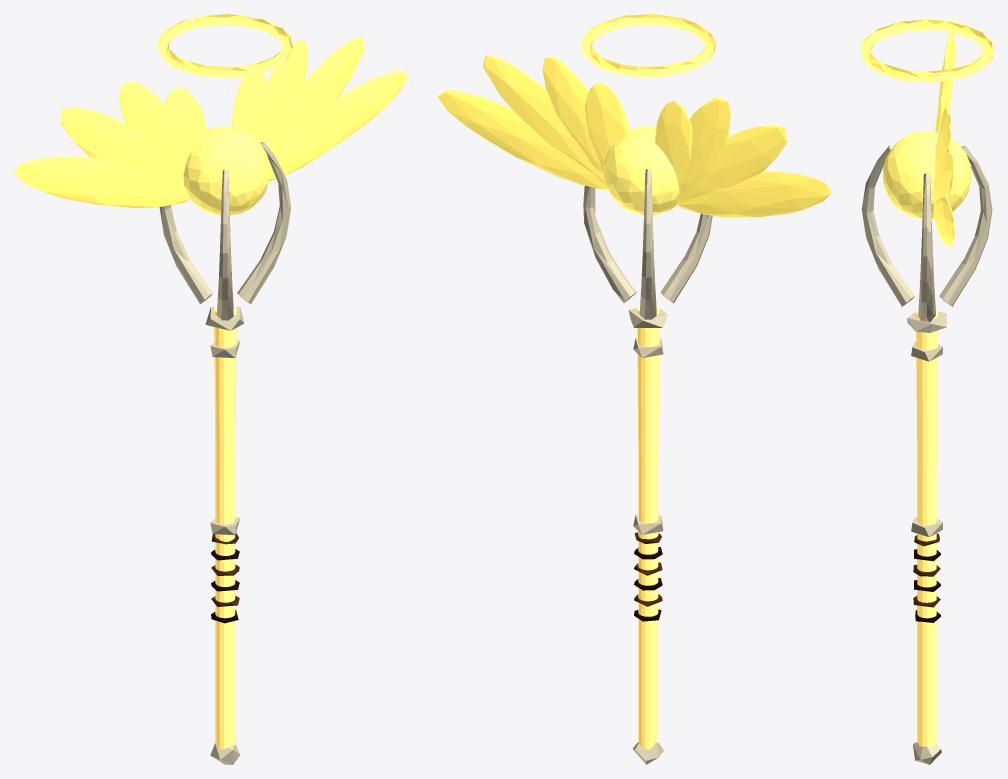
Rendered from staff_7.glb.
The picture shows the model from 3 angles, left to right: view 1: azimuth 30°, elevation 25°; view 2: azimuth 150°, elevation 25°; view 3: azimuth 270°, elevation 25°; orthographic projection.
Visible parts, largest first — view 1: part_01, part_13, part_12, part_17, part_14, part_18, part_21, part_15, part_19, part_22, part_23, part_24 (+2 smaller); view 2: part_01, part_17, part_13, part_12, part_18, part_14, part_21, part_19, part_15, part_20, part_16, part_22 (+2 smaller); view 3: part_01, part_12, part_21, part_24, part_23, part_22, part_17, part_18, part_09, part_19, part_08, part_11 (+3 smaller).
Part boxes in pixels (<box>): part_01: <box>214,306,236,749</box>; part_13: <box>14,156,189,207</box>; part_12: <box>183,126,270,215</box>; part_17: <box>269,70,408,181</box>; part_14: <box>60,107,184,189</box>; part_18: <box>267,36,364,162</box>; part_21: <box>157,14,292,77</box>; part_15: <box>119,81,187,193</box>; part_19: <box>255,40,307,145</box>; part_22: <box>237,142,290,304</box>; part_23: <box>217,169,233,320</box>; part_24: <box>159,205,212,303</box>; part_01: <box>637,305,659,749</box>; part_17: <box>437,89,607,189</box>; part_13: <box>676,171,831,217</box>; part_12: <box>603,126,679,215</box>; part_18: <box>483,54,605,183</box>; part_14: <box>677,124,787,200</box>; part_21: <box>580,14,715,77</box>; part_19: <box>542,56,603,173</box>; part_15: <box>681,97,730,193</box>; part_20: <box>585,82,630,171</box>; part_16: <box>654,100,692,195</box>; part_22: <box>583,185,636,303</box>; part_01: <box>916,308,938,747</box>; part_12: <box>882,130,971,218</box>; part_21: <box>860,19,993,82</box>; part_24: <box>939,145,992,306</box>; part_23: <box>861,145,914,306</box>; part_22: <box>918,173,935,322</box>; part_17: <box>933,197,954,246</box>; part_18: <box>933,152,953,204</box>; part_09: <box>907,311,946,332</box>; part_19: <box>933,114,950,207</box>; part_08: <box>913,742,941,764</box>; part_11: <box>911,517,942,537</box>.
Bounding box in the file's own units: 0.9569 × 1.68 × 0.2818.
